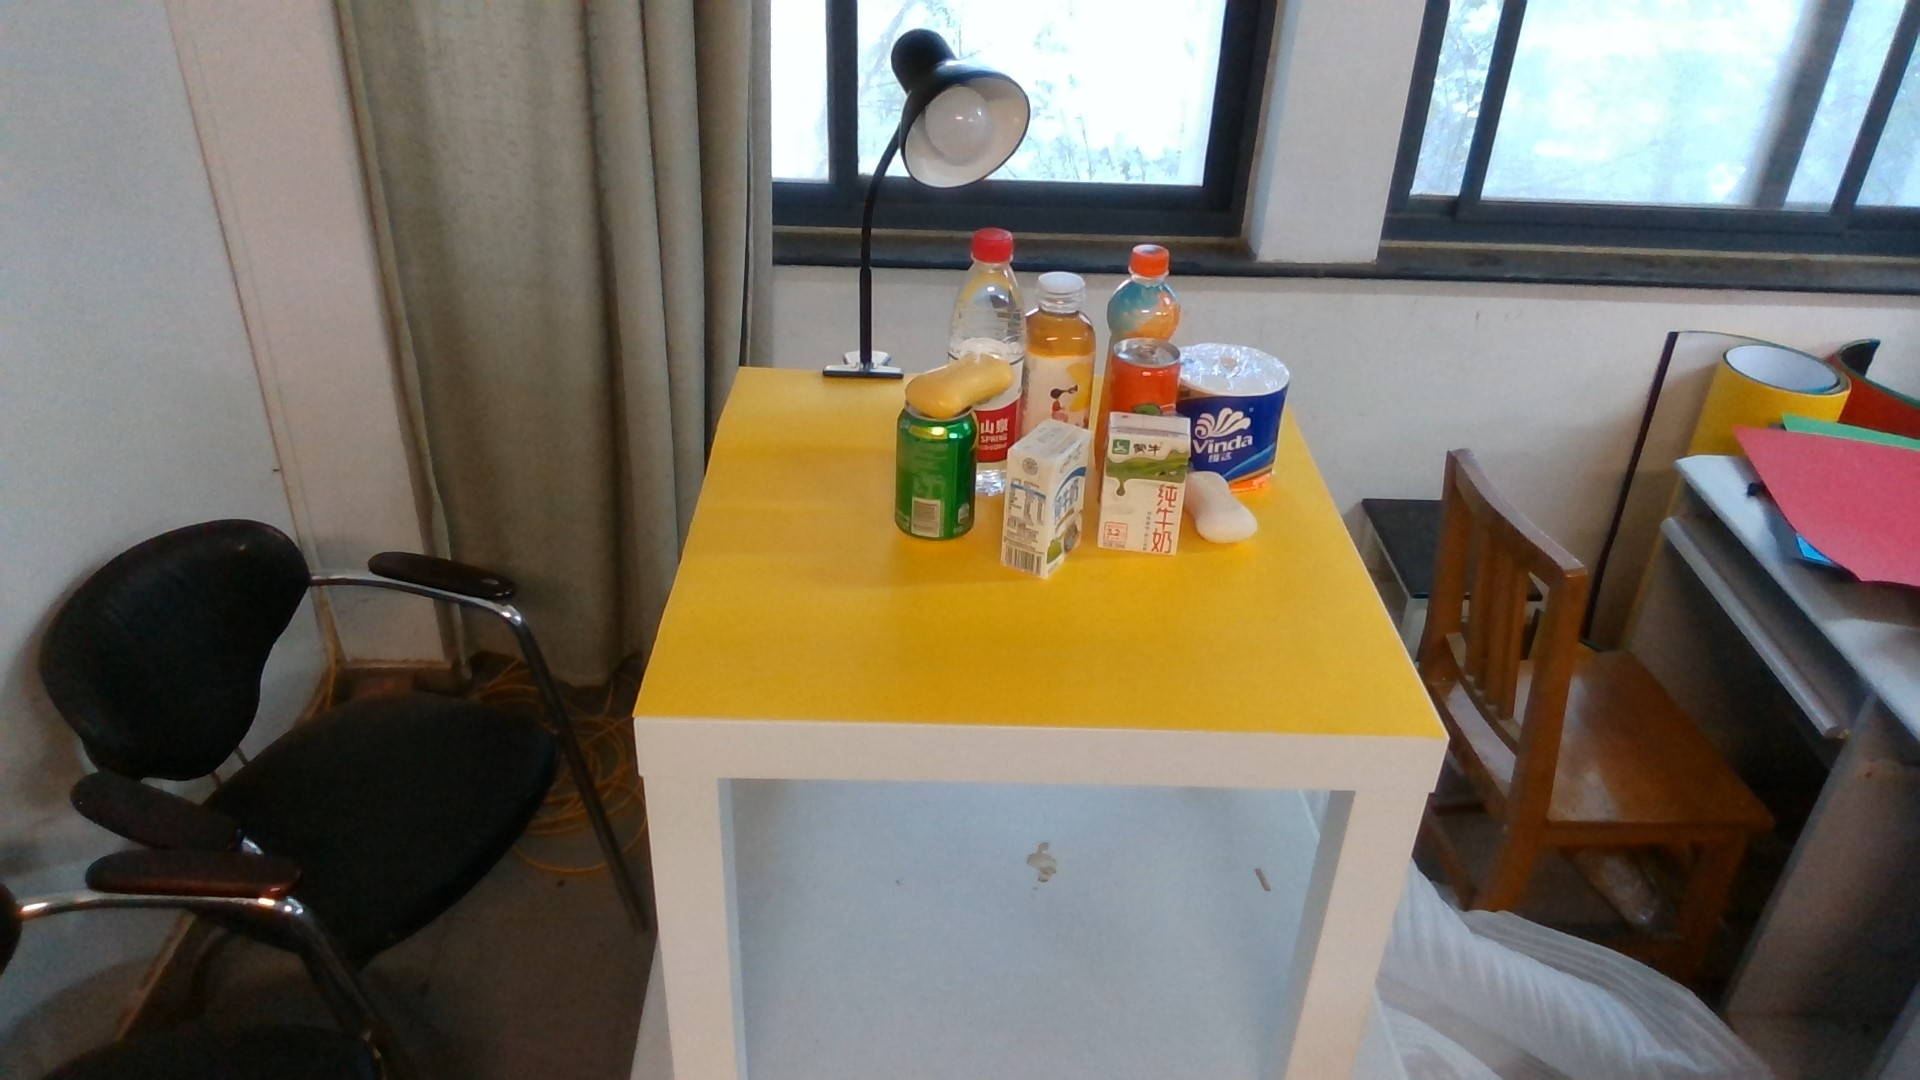BB003: (905, 353, 1015, 414), (1193, 469, 1257, 546)
BB009: (1095, 411, 1191, 556)
BB013: (1002, 413, 1084, 582)
CA002: (1197, 339, 1290, 464)
ZC001: (895, 421, 977, 541)
ZC003: (1109, 339, 1180, 411)
ZC006: (1105, 247, 1185, 342)
ZC012: (1027, 269, 1095, 414)
ZC014: (948, 224, 1027, 357)
